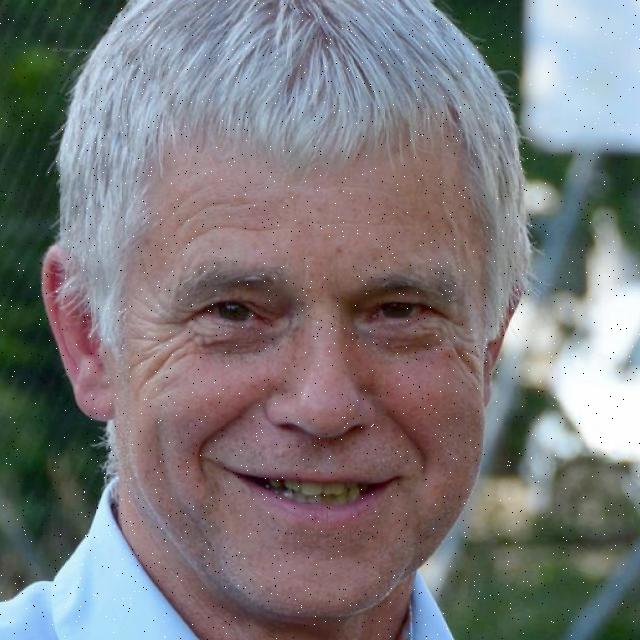puffy_eyes: (363, 327, 449, 359), (186, 325, 265, 357)
